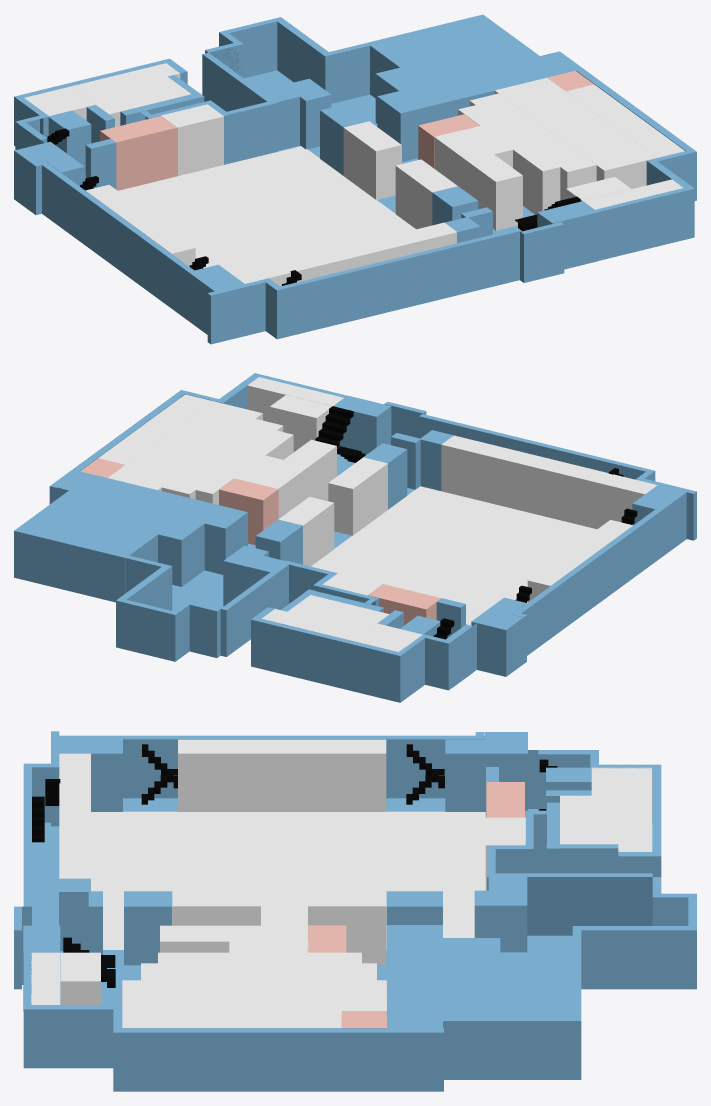
3 renders of one model, top to bottom at view 1: azimuth 30°, elevation 25°; view 2: azimuth 150°, elevation 25°; view 3: azimuth 270°, elevation 25°, orthographic. The views are drawn at different scales.
Visible parts, largest first — view 1: object, アリーナ, 男子ロッカー室, 女子ロッカー室, 男子シャワー室, 用具庫_g_1_4, 用具庫_g_1_2, 体育事務課, アリーナ監視室, 用具庫_g_1_3, 用具庫_g_1_1, 男子トイレ_g_1_1 (+9 smaller); view 2: object, アリーナ, 用具庫_g_1_4, 女子ロッカー室, 男子ロッカー室, 用具庫_g_1_3, 男子シャワー室, 体育事務課, 用具庫_g_1_2, 男子トイレ_g_1_2, 用具庫_g_1_1, 職員ロッカー室 (+10 smaller); view 3: object, アリーナ, 用具庫_g_1_1, 女子ロッカー室, 男子ロッカー室, 体育事務課, 用具庫_g_1_2, 用具庫_g_1_4, 男子シャワー室, 用具庫_g_1_3, 女子シャワー室, 職員ロッカー室 (+13 smaller).
Part boxes in pixels (bbox=[...]): object: bbox=[14, 14, 696, 344]; アリーナ: bbox=[118, 146, 415, 274]; 男子ロッカー室: bbox=[458, 93, 596, 214]; 女子ロッカー室: bbox=[494, 77, 656, 188]; 男子シャワー室: bbox=[434, 130, 522, 230]; 用具庫_g_1_4: bbox=[232, 222, 457, 286]; 用具庫_g_1_2: bbox=[343, 121, 401, 199]; 体育事務課: bbox=[71, 63, 191, 126]; アリーナ監視室: bbox=[161, 104, 223, 176]; 用具庫_g_1_3: bbox=[395, 159, 457, 229]; 用具庫_g_1_1: bbox=[85, 184, 195, 266]; 男子トイレ_g_1_1: bbox=[130, 116, 176, 183]; object: bbox=[14, 373, 696, 702]; アリーナ: bbox=[311, 486, 596, 625]; 用具庫_g_1_4: bbox=[441, 435, 657, 529]; 女子ロッカー室: bbox=[108, 401, 262, 490]; 男子ロッカー室: bbox=[161, 419, 293, 504]; 用具庫_g_1_3: bbox=[328, 457, 387, 535]; 男子シャワー室: bbox=[252, 439, 336, 518]; 体育事務課: bbox=[261, 595, 389, 640]; 用具庫_g_1_2: bbox=[278, 496, 334, 566]; 男子トイレ_g_1_2: bbox=[219, 478, 278, 545]; 用具庫_g_1_1: bbox=[527, 520, 632, 602]; 職員ロッカー室: bbox=[269, 395, 331, 451]; object: bbox=[14, 731, 696, 1091]; アリーナ: bbox=[91, 811, 485, 949]; 用具庫_g_1_1: bbox=[178, 739, 386, 811]; 女子ロッカー室: bbox=[122, 980, 386, 1010]; 男子ロッカー室: bbox=[141, 952, 376, 980]; 体育事務課: bbox=[560, 795, 652, 851]; 用具庫_g_1_2: bbox=[308, 891, 386, 965]; 用具庫_g_1_4: bbox=[59, 753, 90, 890]; 男子シャワー室: bbox=[160, 925, 307, 952]; 用具庫_g_1_3: bbox=[172, 891, 260, 925]; 女子シャワー室: bbox=[122, 1011, 259, 1028]; 職員ロッカー室: bbox=[60, 952, 100, 1004].
Bounding box in the file's own units: 1.8 × 0.1736 × 1.72.
